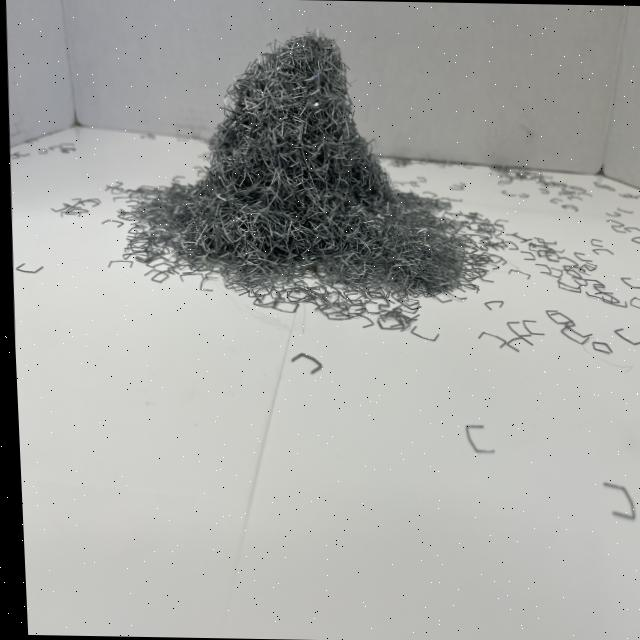staples: (100, 23, 476, 309)
